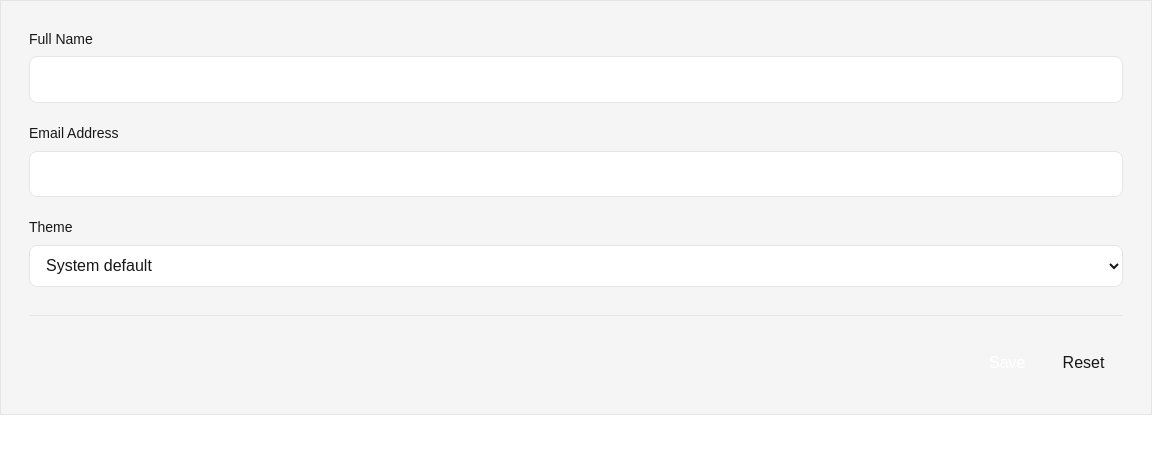
Scenario: SettingsForm › requires the full name to be at least 2 characters
Type "A" into the field labelled "Full Name".
click(576, 80); type("A")  # box left=29, top=56, right=1123, bottom=103
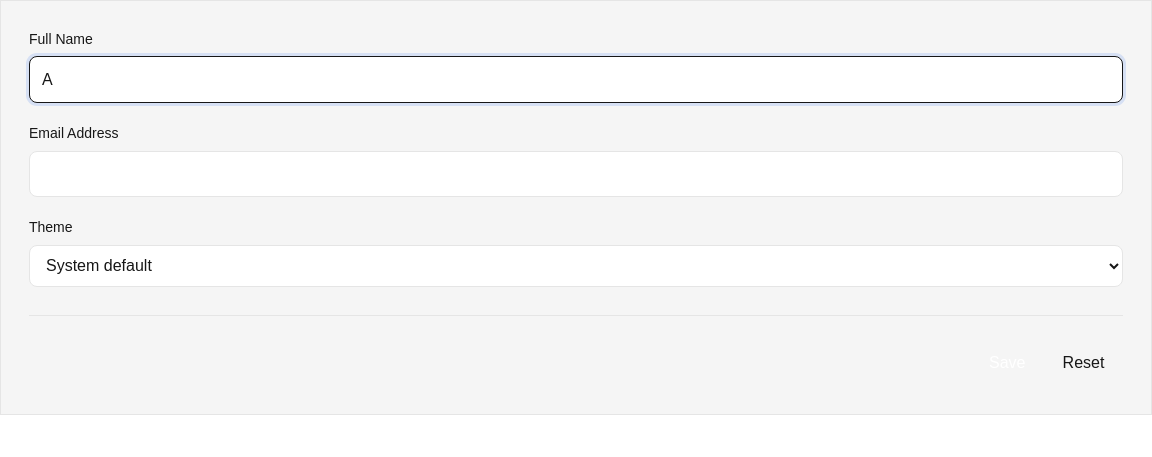
Press Tab
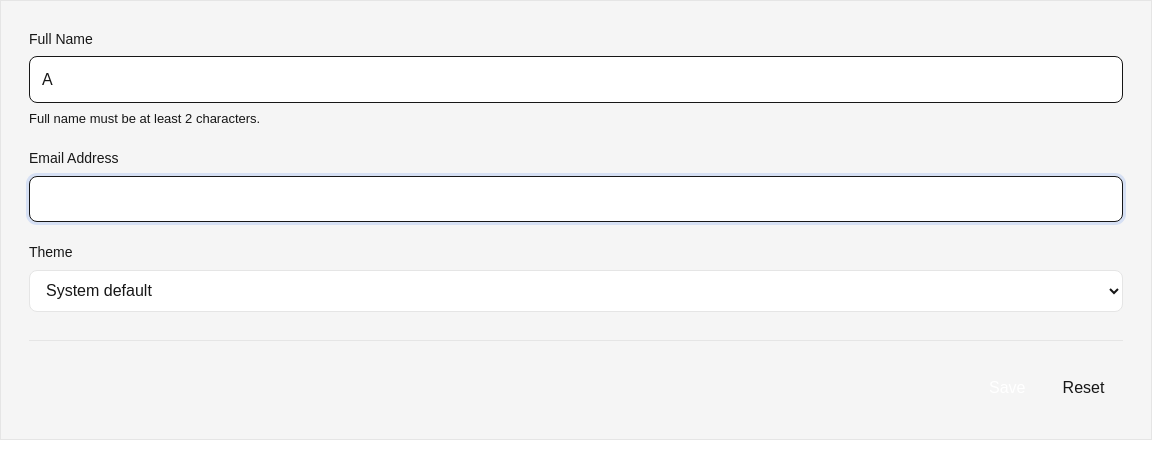
expect the text "Full name must be at least 2 characters." is shown: met, box left=29, top=111, right=260, bottom=126
